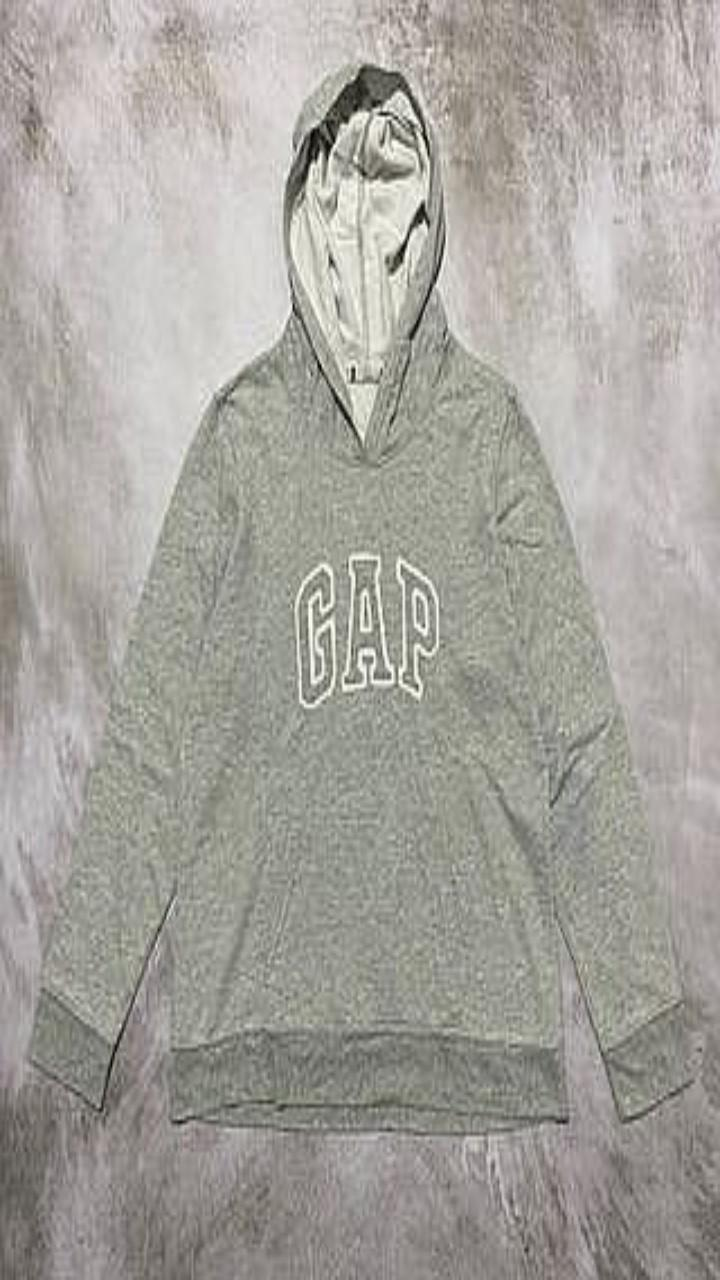Hoodie: (29, 62, 693, 1131)
